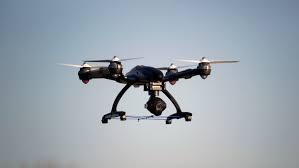drone_other: (54, 54, 240, 126)
